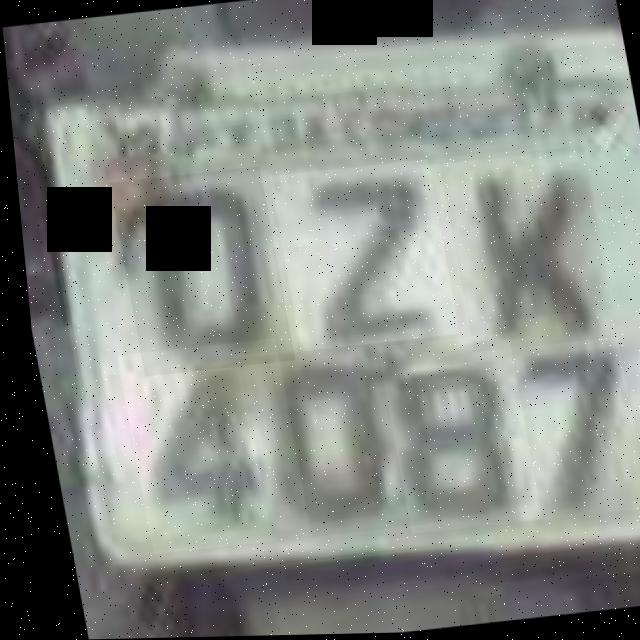0: (229, 341, 432, 542)
4: (108, 338, 301, 555)
7: (478, 311, 639, 524)
8: (369, 334, 532, 536)
K: (434, 148, 611, 355)
O: (104, 166, 289, 377)
Z: (264, 160, 454, 352)
